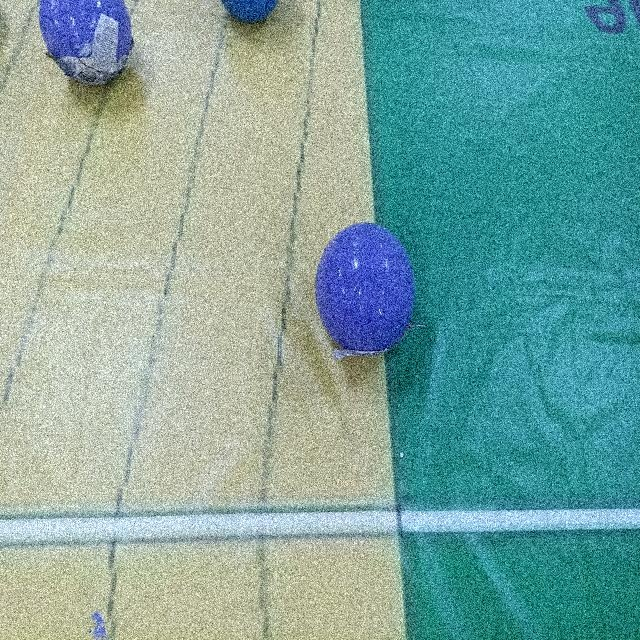blue_ball: (217, 0, 281, 33)
purple_ball: (309, 216, 422, 373), (24, 0, 147, 85)
